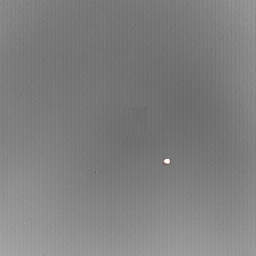Target: (163, 157, 172, 166)
